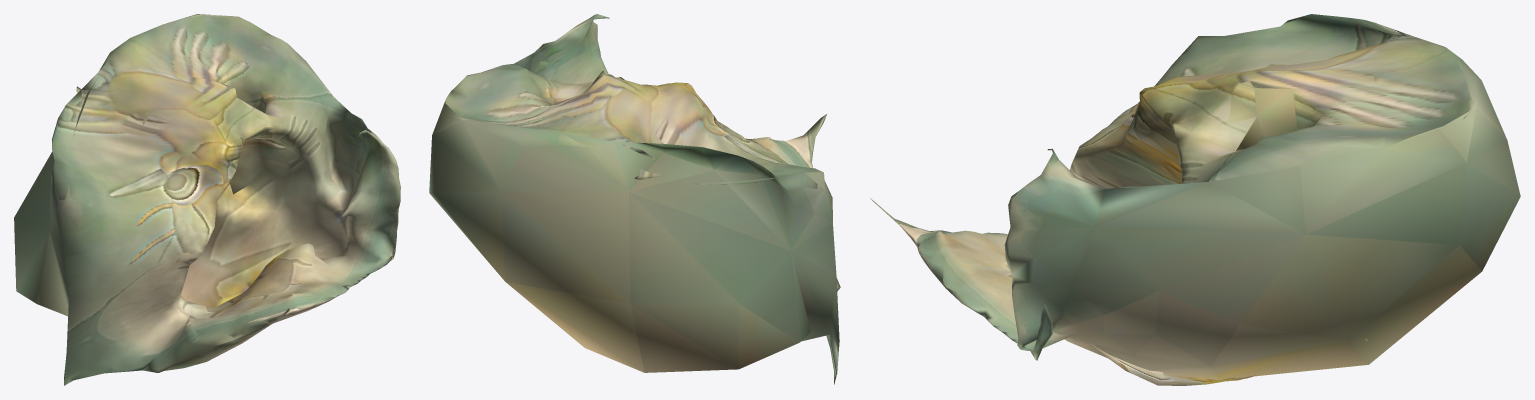
Rendered from cell_creature1_test_textured.glb.
3 views of the same model, side by side, from view 1: azimuth 30°, elevation 25°; view 2: azimuth 150°, elevation 25°; view 3: azimuth 270°, elevation 25° (orthographic). The views are drawn at different scales.
Visible parts, largest first — view 1: Mesh_0; view 2: Mesh_0; view 3: Mesh_0.
Part boxes in pixels (x1,y1,x2,y2): Mesh_0: (14, 14, 400, 385); Mesh_0: (429, 14, 840, 384); Mesh_0: (870, 14, 1520, 385).
Size of the model in its own units: 9.51 by 7.64 by 12.3.
1 material, 1 textured.
